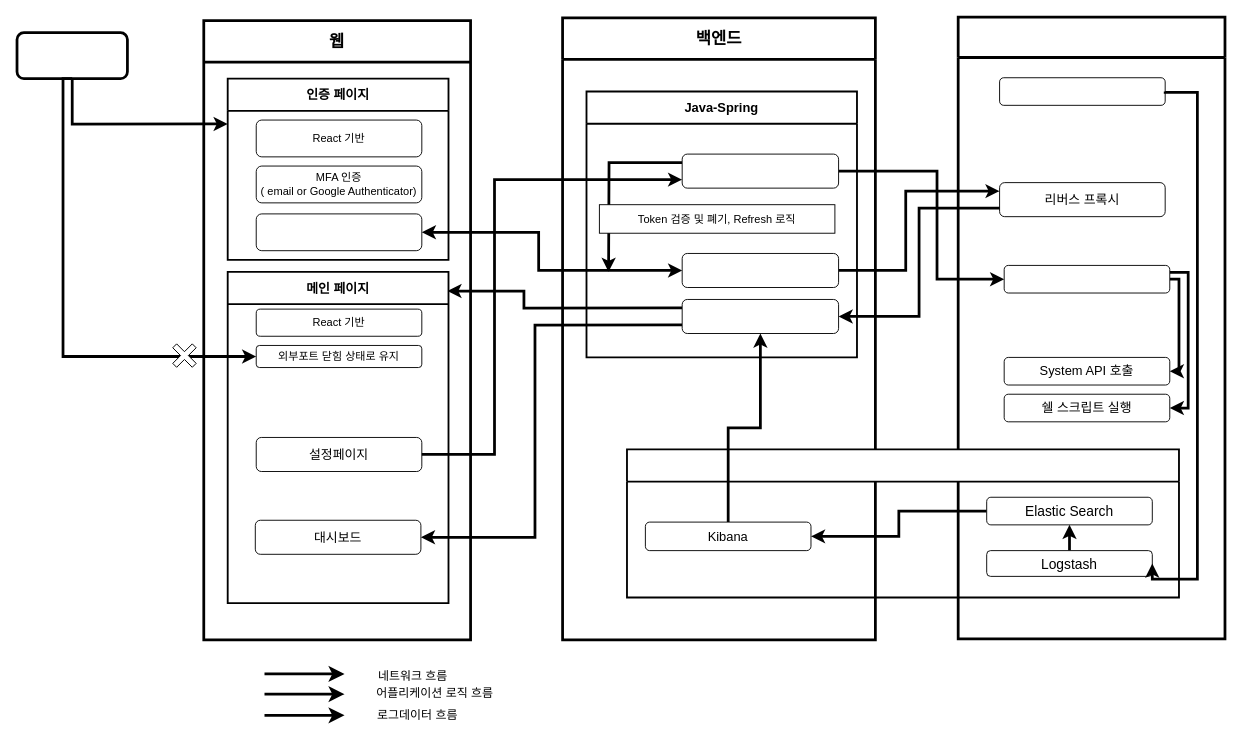
Image size: 1242x745. Some labels were removed from this diagram. Each missing label, with the box of its shape:
JWT Tokens: (255, 213, 422, 251)
Rocky Linux 9.5: (999, 77, 1165, 105)
로그 수집: (626, 448, 1179, 598)
메인 웹서버: (681, 299, 839, 334)
서버: (956, 15, 1226, 640)
시스템 계정: (1003, 264, 1170, 293)
어플리케이션 로직: (681, 153, 839, 188)
인증 웹서버: (681, 253, 839, 288)
클라이언트: (15, 31, 128, 80)
